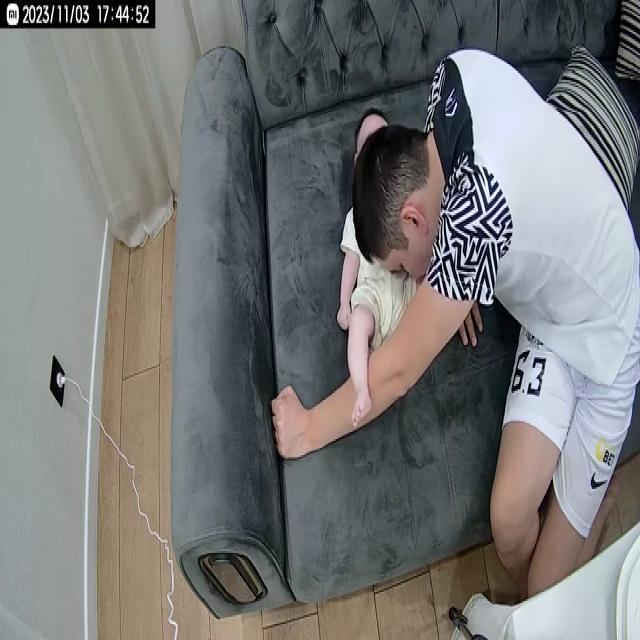baby: (332, 106, 432, 427)
